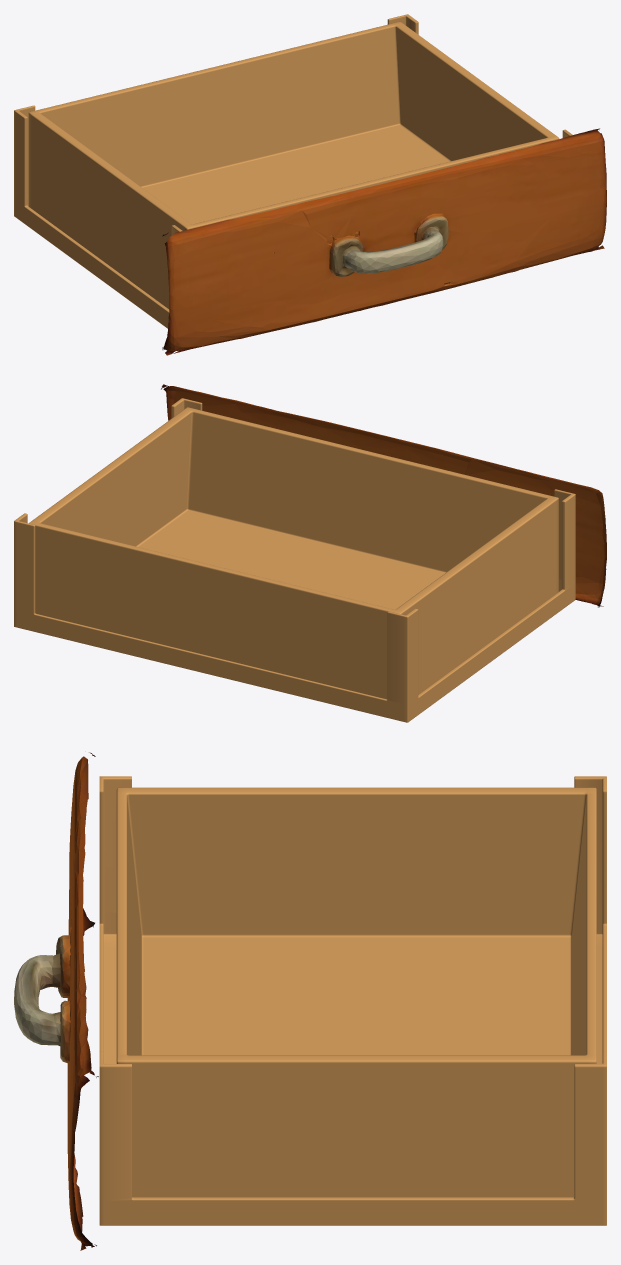
The model's file is drawer_bottom.glb.
3 renders of one model, top to bottom at view 1: azimuth 30°, elevation 25°; view 2: azimuth 150°, elevation 25°; view 3: azimuth 270°, elevation 25°, orthographic. The views are drawn at different scales.
Parts seen in each view (by area): view 1: prefab_drawer_body_3, source_front_cap_0; view 2: prefab_drawer_body_3, source_front_cap_0; view 3: prefab_drawer_body_3, source_front_cap_0.
Boxes of the visible parts, x1,y1,x2,y2 form: prefab_drawer_body_3: (14,14,572,328); source_front_cap_0: (162,128,606,355); prefab_drawer_body_3: (14,398,575,722); source_front_cap_0: (161,384,606,607); prefab_drawer_body_3: (99,776,606,1225); source_front_cap_0: (14,752,98,1250).
Bounding box in the file's own units: 0.4875 × 0.1254 × 0.3792.
Materials: 2 (1 with a texture image).
